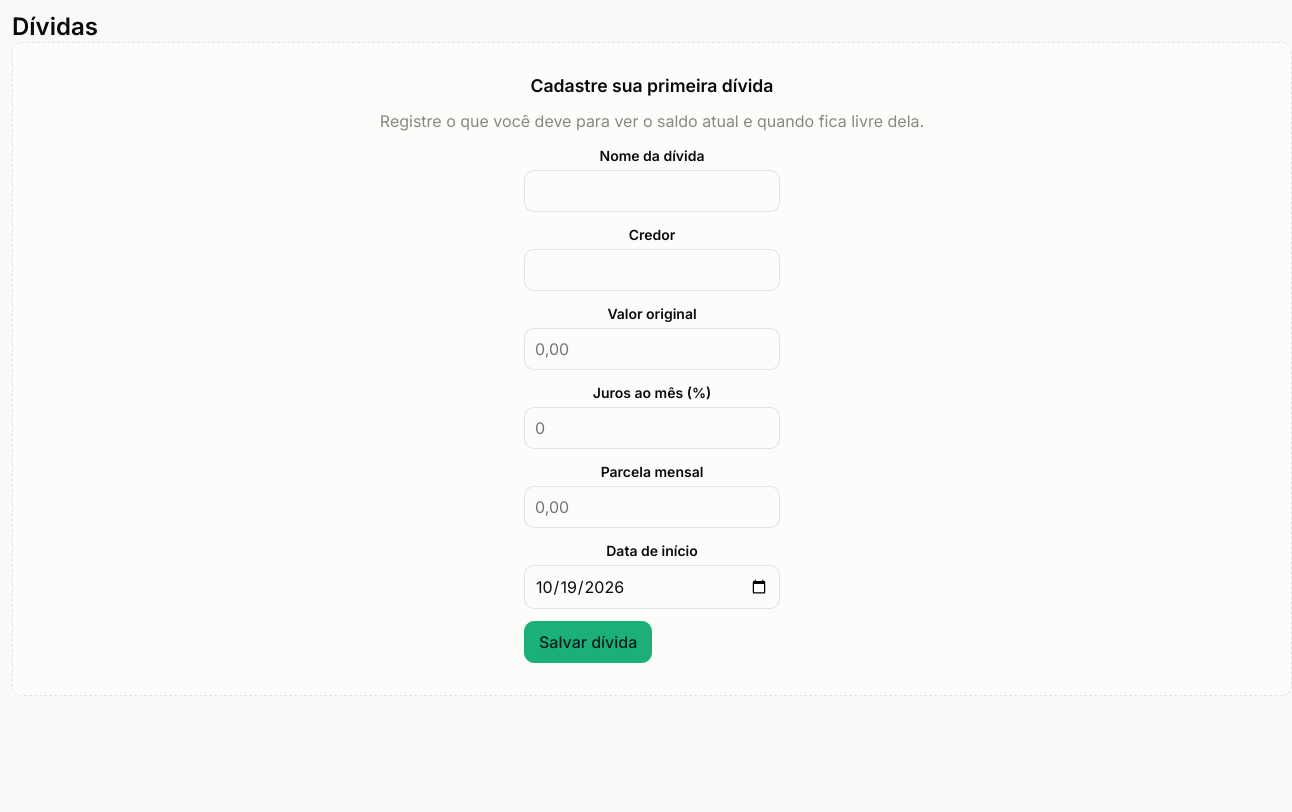
Scenario: DebtsPage › validates the debt form inline
The width and height of the screenshot is (1292, 812).
Type "500" into the field labelled "Juros ao mês (%)" at (652, 428), box top-left (524, 407), bottom-right (780, 449)
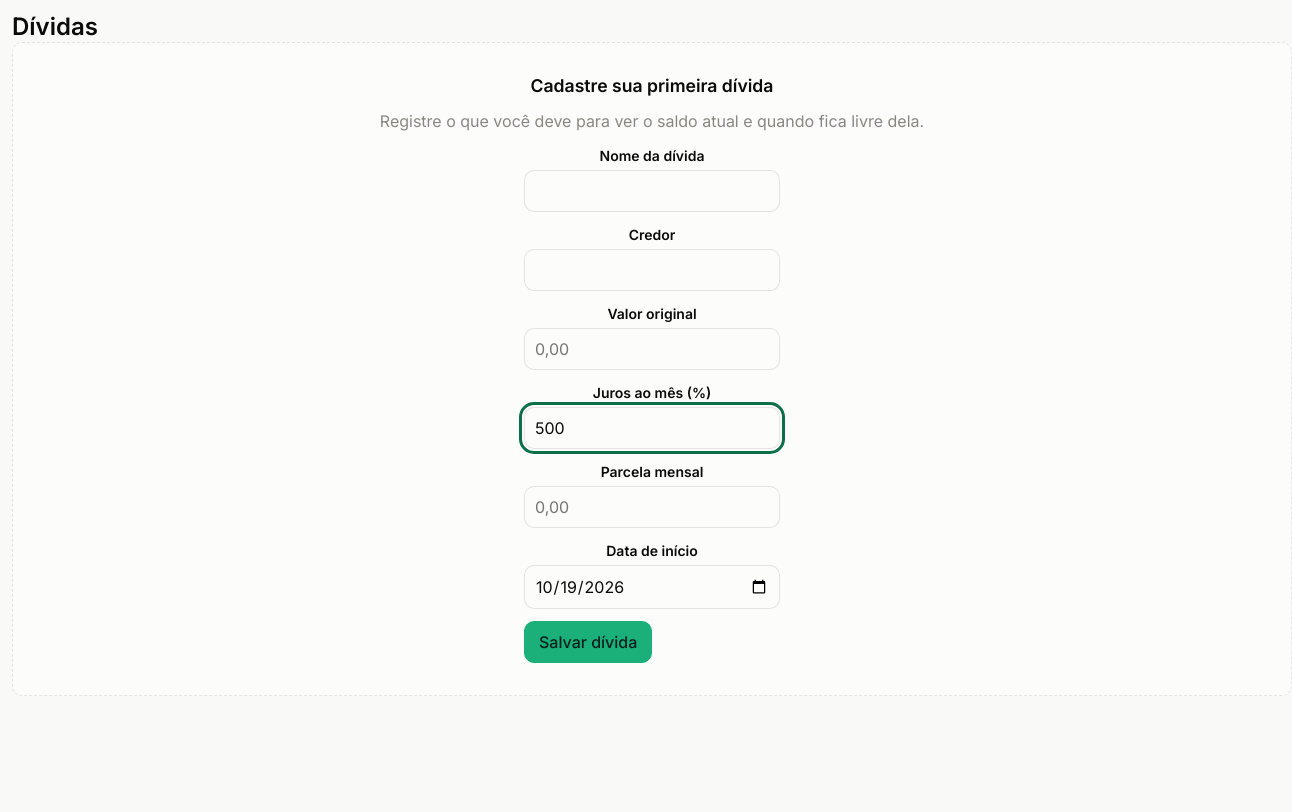
Type "abc" into the field labelled "Parcela mensal" at (652, 507), box top-left (524, 486), bottom-right (780, 528)
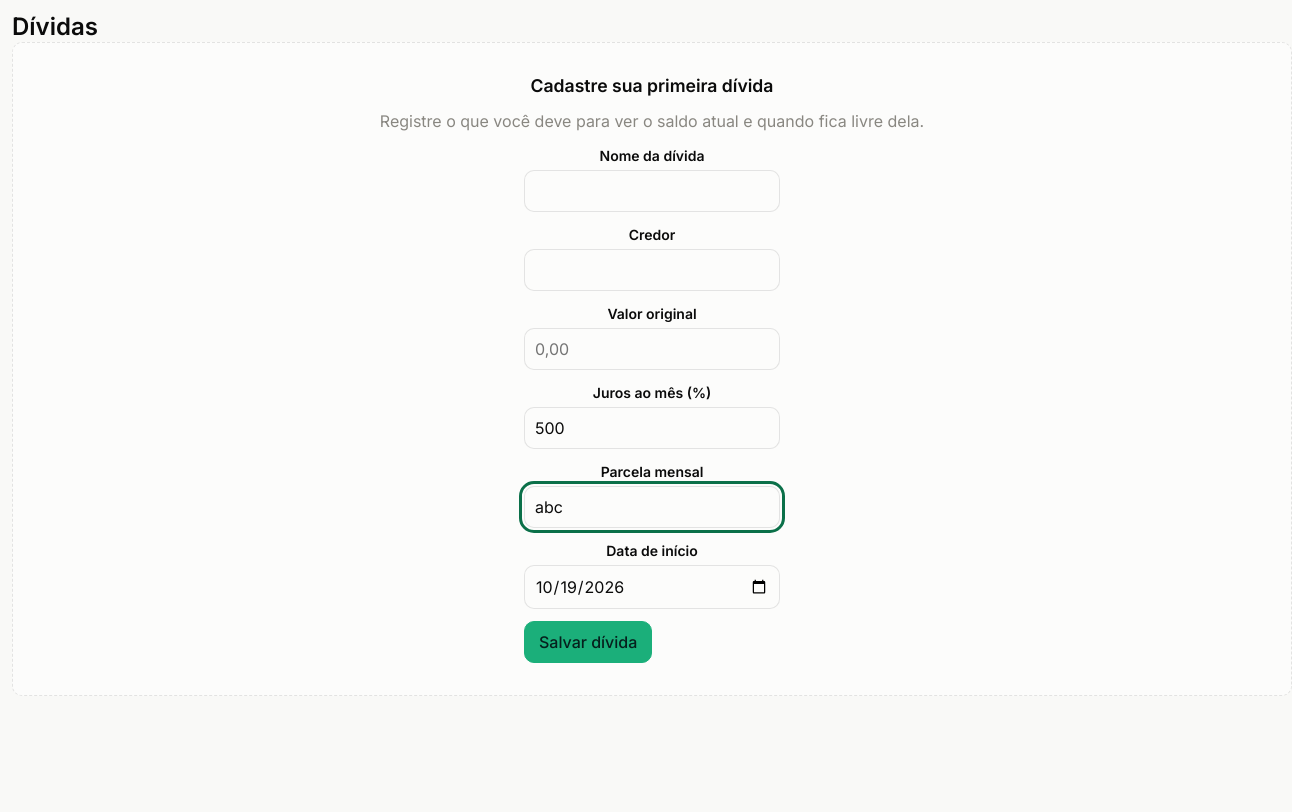
Click the button "Salvar dívida" at (588, 642), box top-left (524, 621), bottom-right (652, 663)
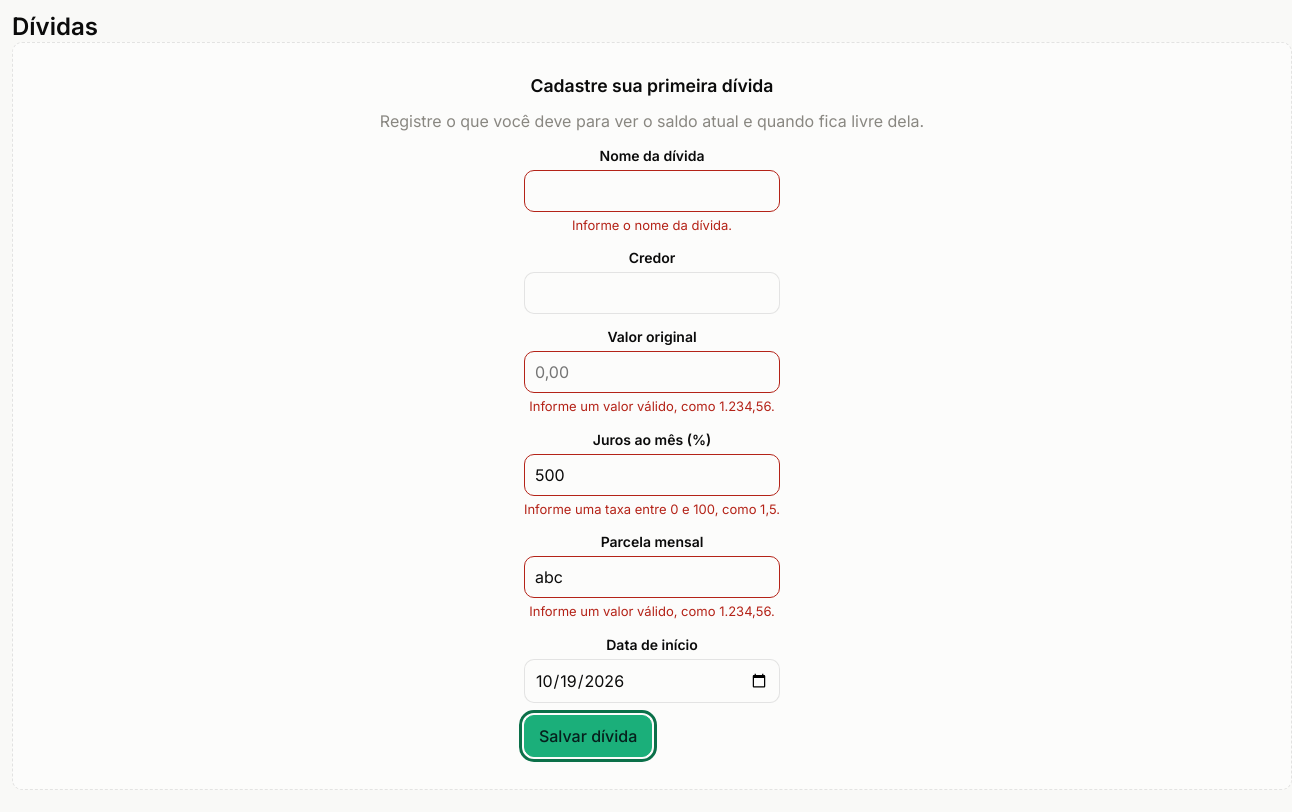
Now the text "Informe o nome da dívida." is shown, box top-left (572, 217), bottom-right (732, 233)
Now the text "Informe um valor válido, como 1.234,56." is shown 2 times, box top-left (524, 398), bottom-right (780, 417); top-left (524, 602), bottom-right (780, 622)
Now the text "Informe uma taxa entre 0 e 100, como 1,5." is shown, box top-left (524, 500), bottom-right (780, 520)
